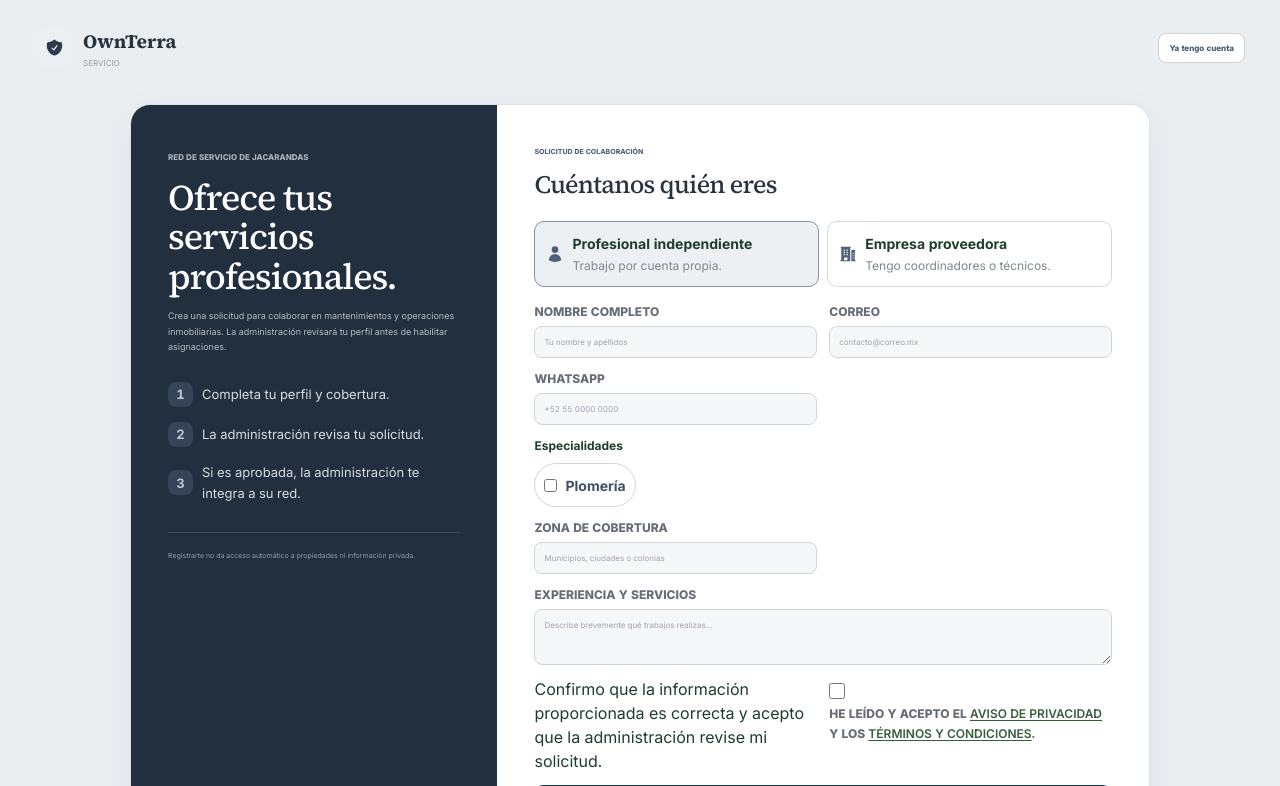
Test: Inscripción pública de proveedores › envía el body público y muestra el folio sin acceso automático
This screenshot has width=1280, height=786.
Type "  Juan Pérez  " into the field with placeholder "Tu nombre y apellidos" at (676, 342), box left=534, top=326, right=817, bottom=358
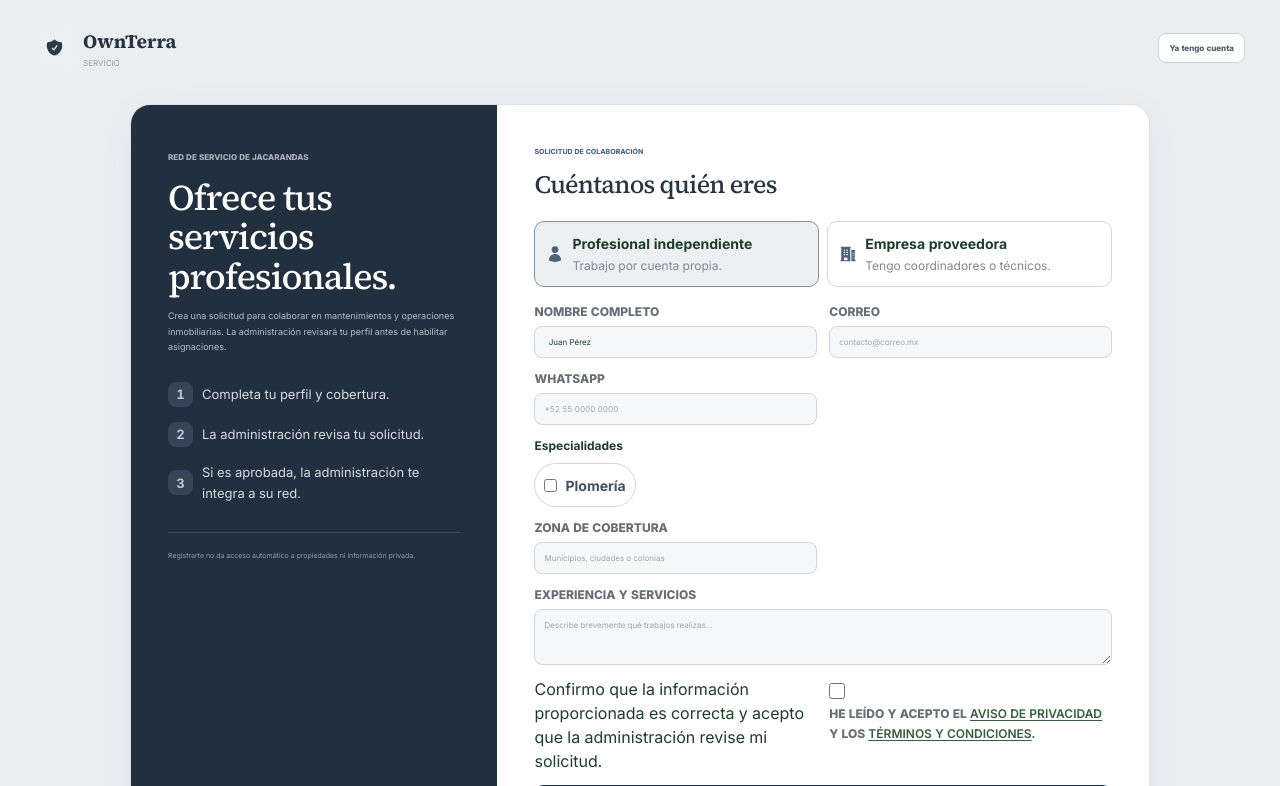
Type "juan@example.com" into the field with placeholder "contacto@correo.mx" at (971, 342), box left=829, top=326, right=1112, bottom=358
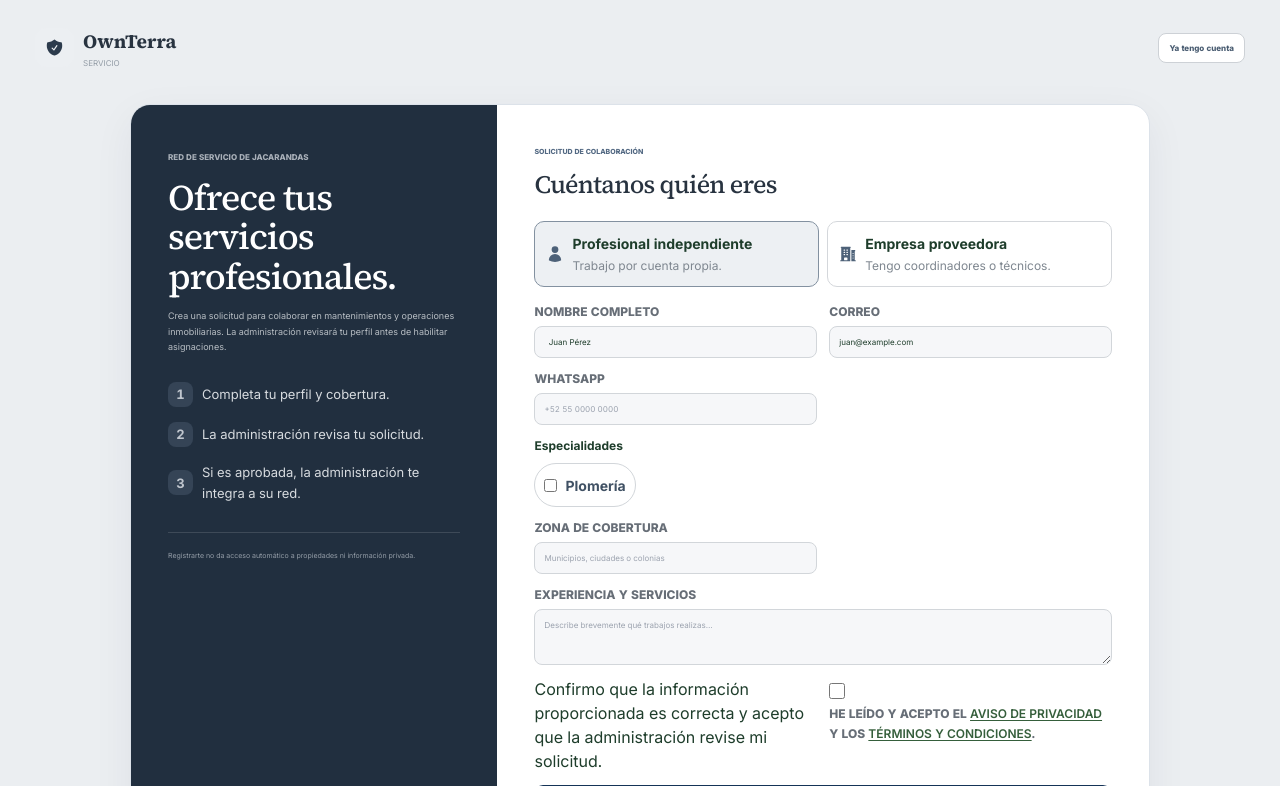
Type " +525500000000 " into the field with placeholder "+52 55 0000 0000" at (676, 409), box left=534, top=393, right=817, bottom=425
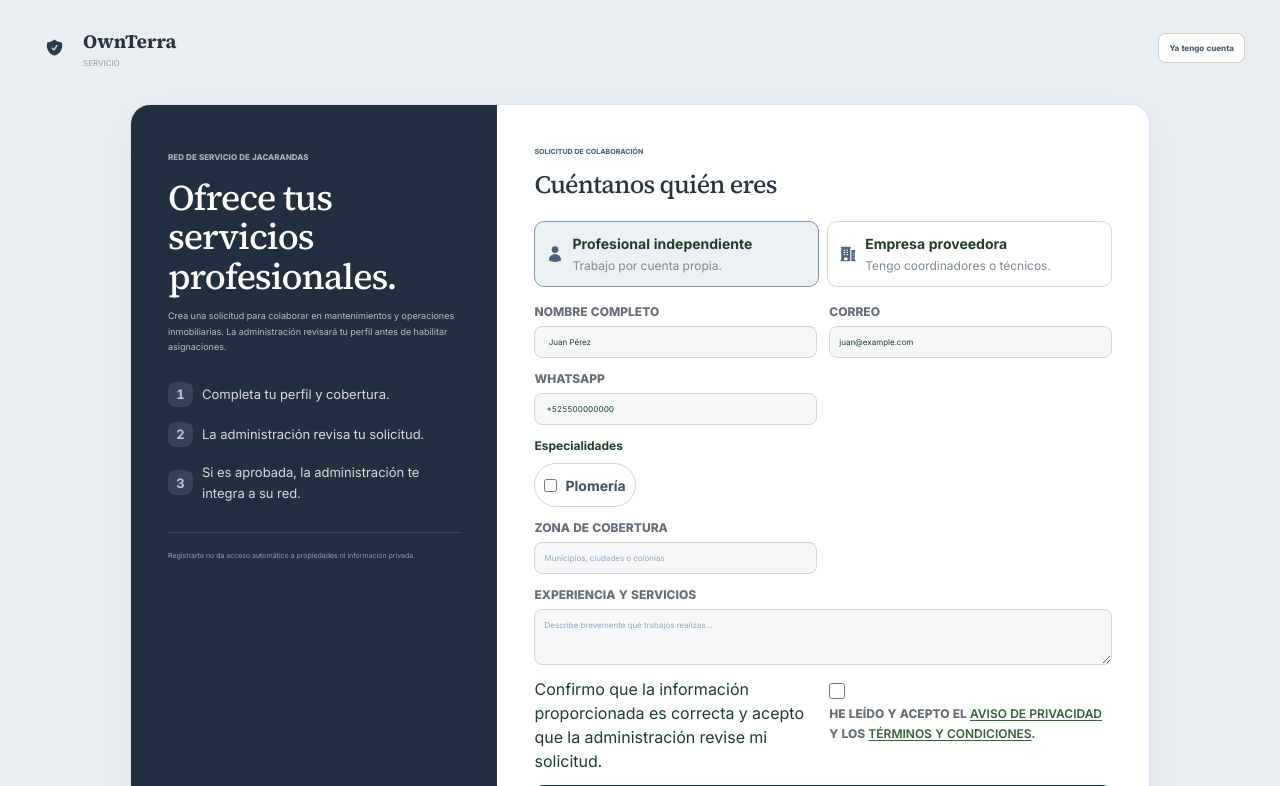
Click the checkbox labelled "He leído y acepto" at (837, 691), box left=829, top=683, right=845, bottom=699
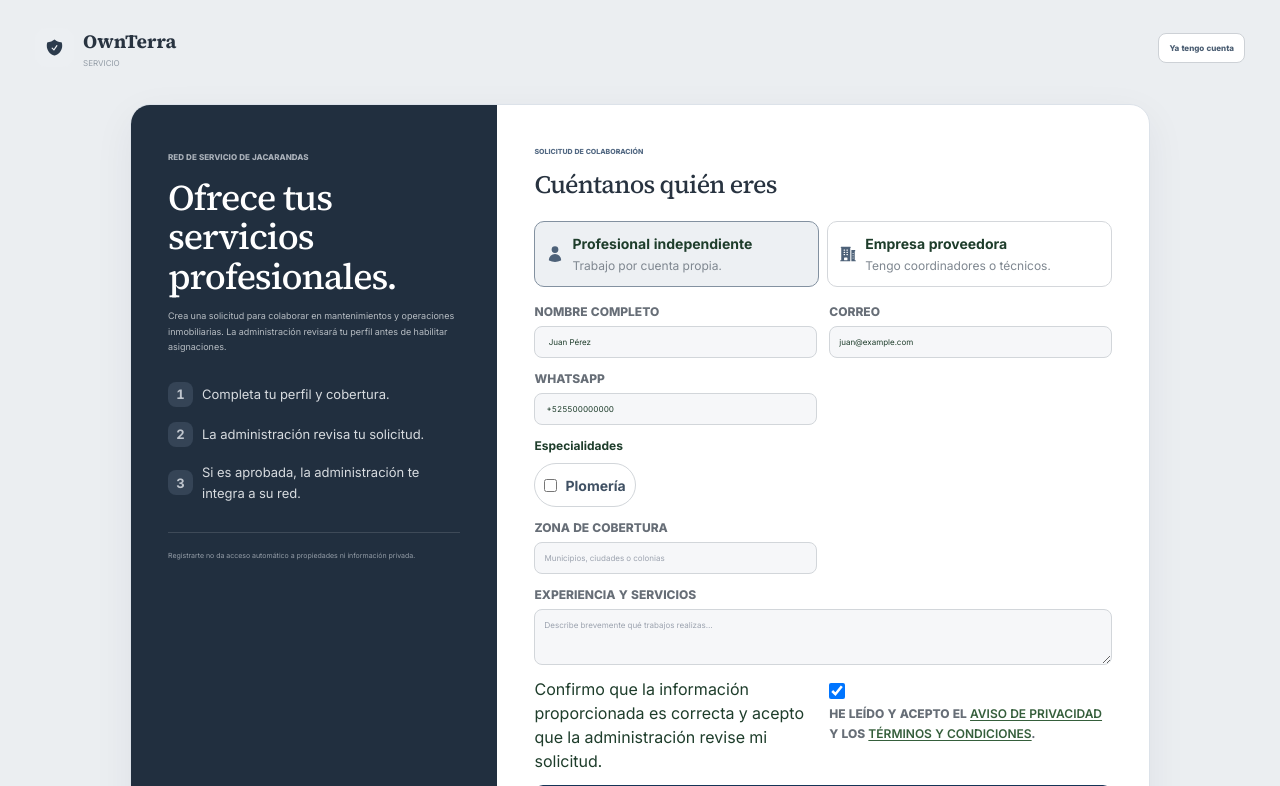
Click the checkbox labelled "Plomería" at (551, 485), box left=544, top=478, right=558, bottom=492
(page scrolled)
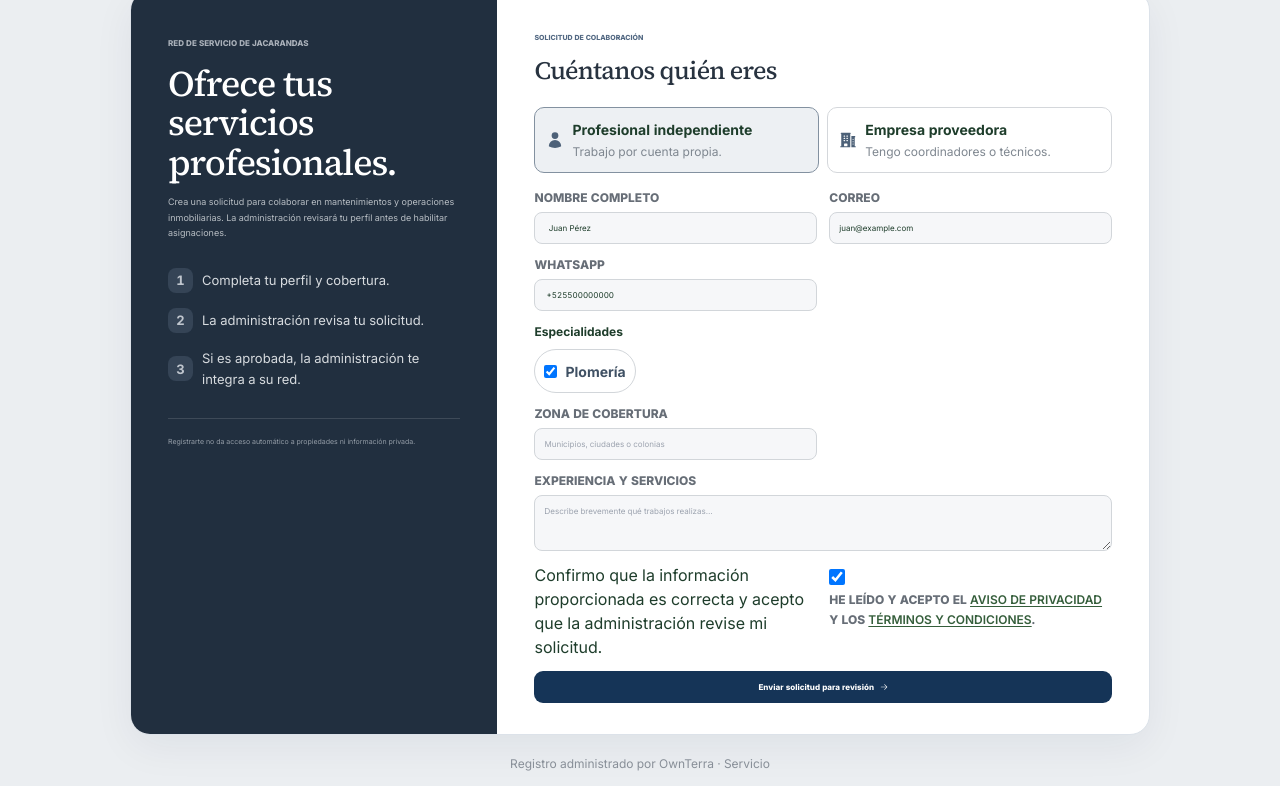
Click the button "Enviar solicitud para revisión" at (823, 687), box left=534, top=671, right=1112, bottom=703
(page scrolled)
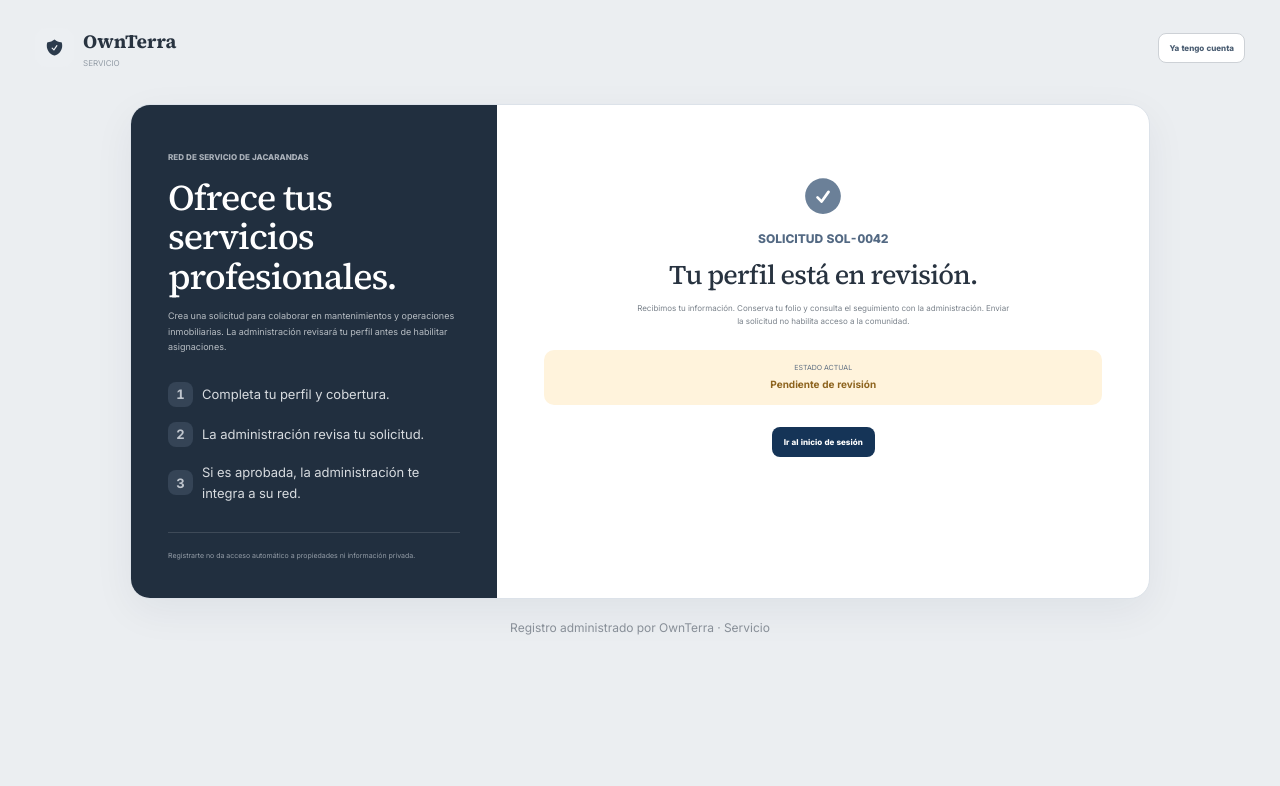
Expected: the text "Solicitud SOL-0042" is shown, left=758, top=230, right=888, bottom=248
Expected: the message shows "no habilita acceso", left=637, top=303, right=1009, bottom=326
